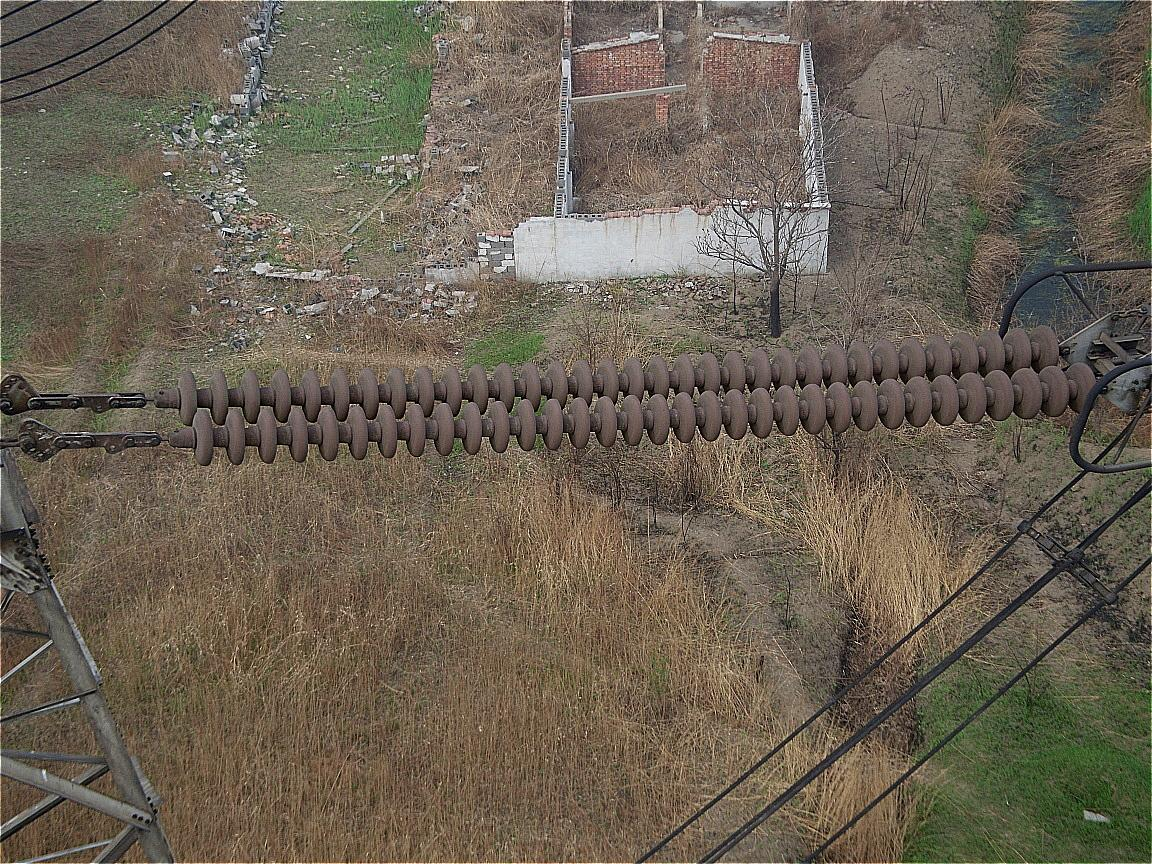insultor1: (177, 324, 1096, 464)
